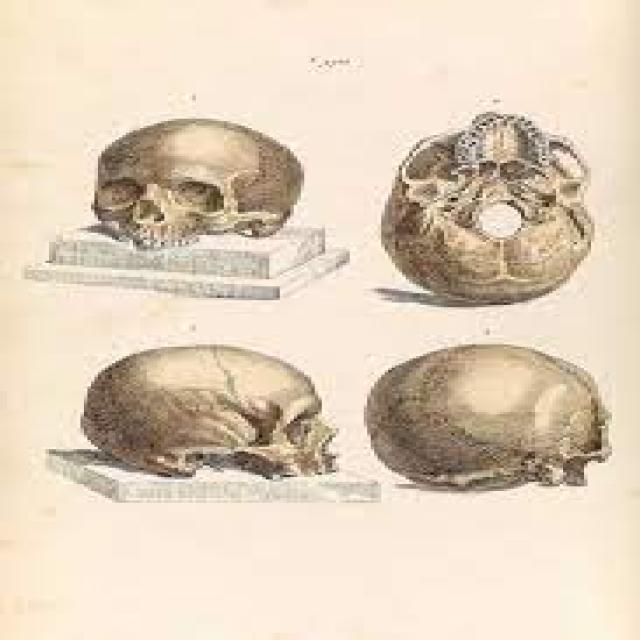skull: (61, 99, 324, 258)
